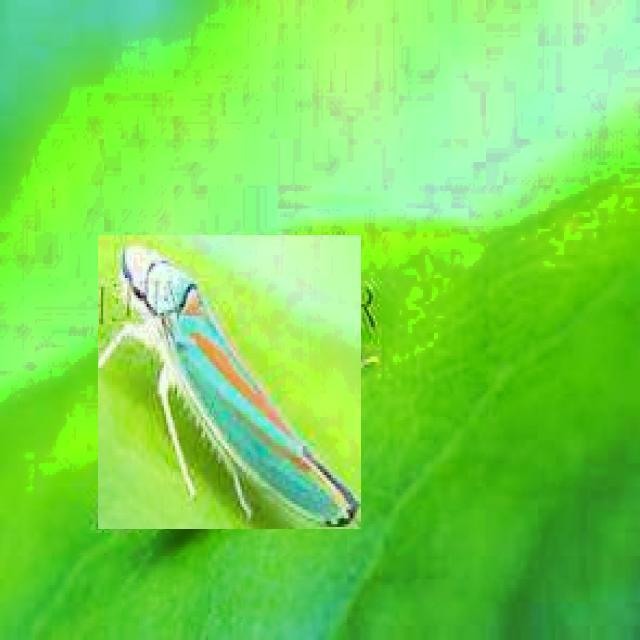green-leafhopper: (98, 235, 361, 529)
